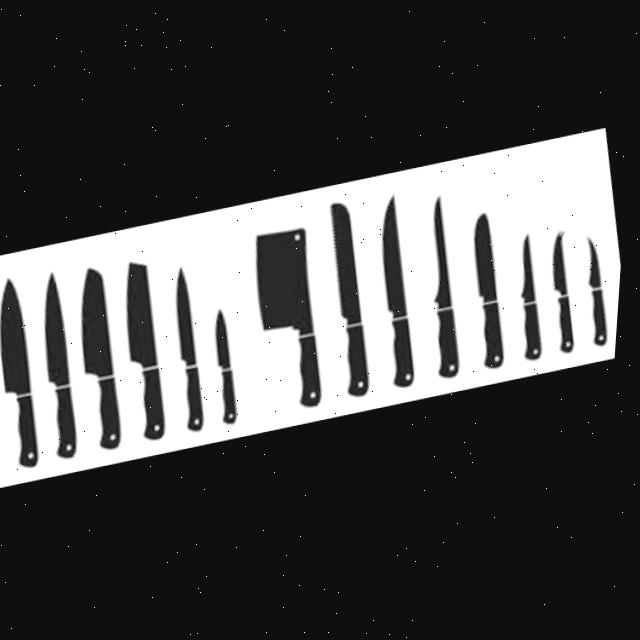knife: (244, 226, 339, 416), (318, 201, 384, 400), (67, 264, 137, 451), (113, 258, 182, 443), (366, 196, 430, 391), (29, 269, 93, 459), (413, 197, 475, 381), (0, 274, 54, 471), (165, 266, 219, 433), (461, 214, 517, 372), (508, 236, 554, 364), (544, 232, 586, 357), (207, 307, 247, 425), (579, 238, 618, 350)
